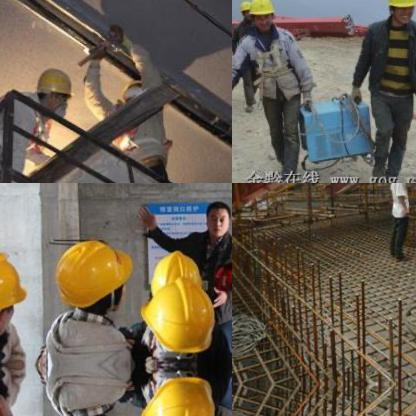Helmet: (140, 278, 218, 348), (52, 239, 130, 307), (146, 249, 202, 308), (139, 377, 219, 415), (32, 64, 72, 114), (382, 0, 415, 27), (244, 0, 275, 28), (0, 389, 30, 415), (235, 0, 252, 18)
